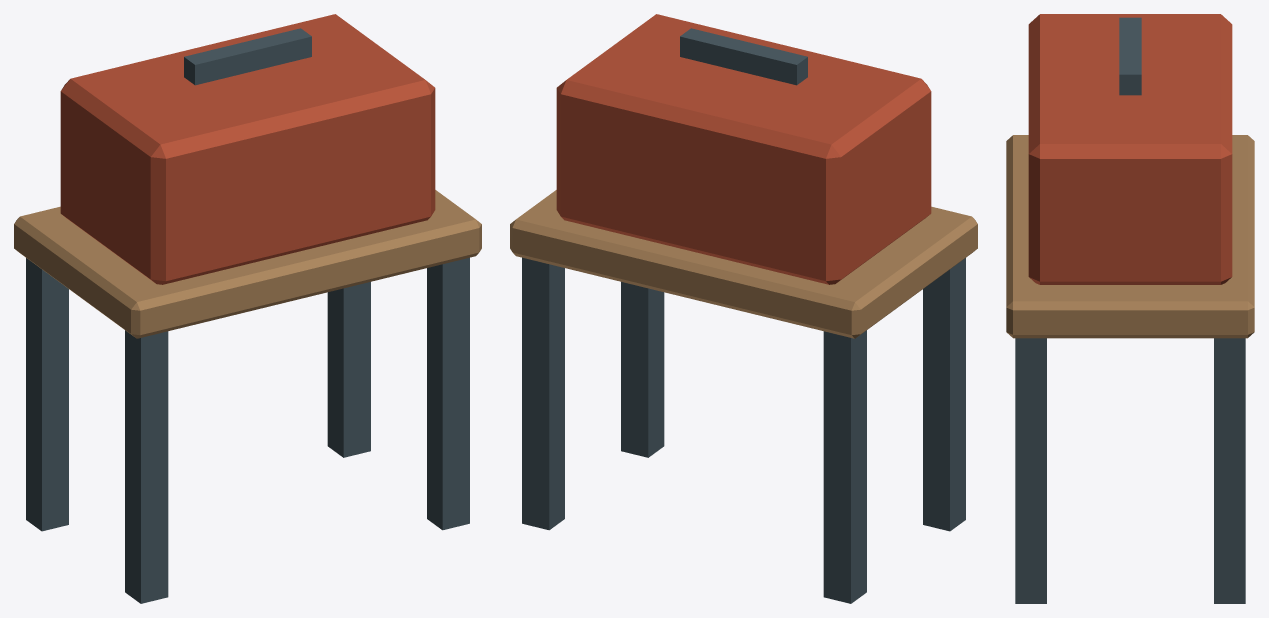
File: toolbox_station.glb
3 views of the same model, side by side, from view 1: azimuth 30°, elevation 25°; view 2: azimuth 150°, elevation 25°; view 3: azimuth 270°, elevation 25° (orthographic).
Visible parts, largest first — view 1: toolbox_station; view 2: toolbox_station; view 3: toolbox_station.
Boxes of the visible parts, x1,y1,x2,y2 form: toolbox_station: (14,14,481,603); toolbox_station: (510,14,977,603); toolbox_station: (1006,14,1254,603).
Bounding box in the file's own units: 0.9 × 1.16 × 0.55.
